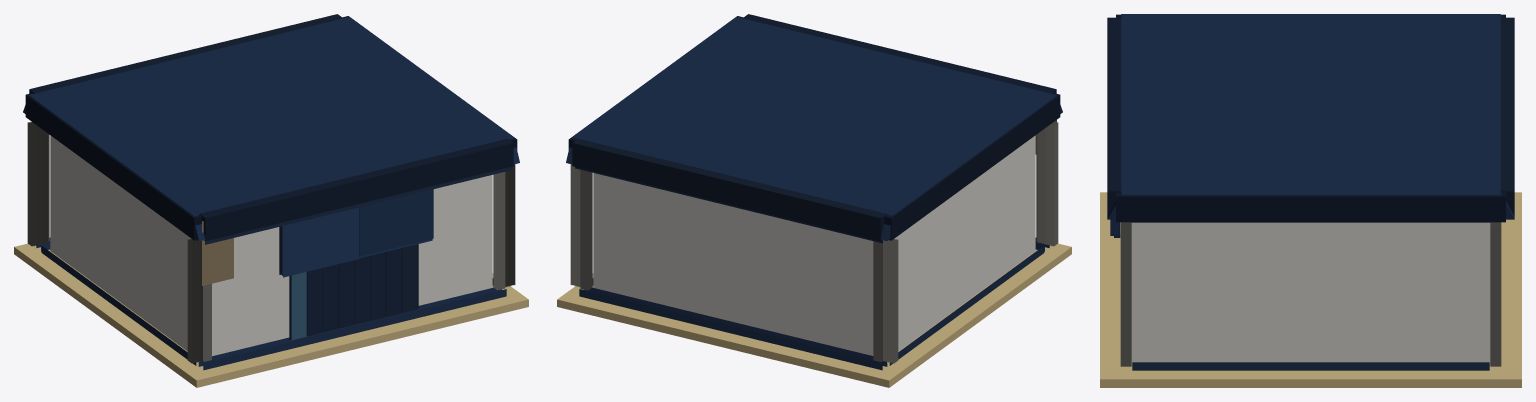
Rendered from DuneWhaleSil.fbx.
3 renders of one model, left to right at view 1: azimuth 30°, elevation 25°; view 2: azimuth 150°, elevation 25°; view 3: azimuth 270°, elevation 25°, orthographic. The views are drawn at different scales.
Visible parts, largest first — view 1: DW_S_All; view 2: DW_S_All; view 3: DW_S_All.
Part boxes in pixels (x1=…): DW_S_All: x1=14, y1=14, x2=528, y2=387; DW_S_All: x1=557, y1=14, x2=1071, y2=387; DW_S_All: x1=1100, y1=14, x2=1521, y2=387.
Size of the model in its own units: 42.04 by 19.9 by 40.04.
